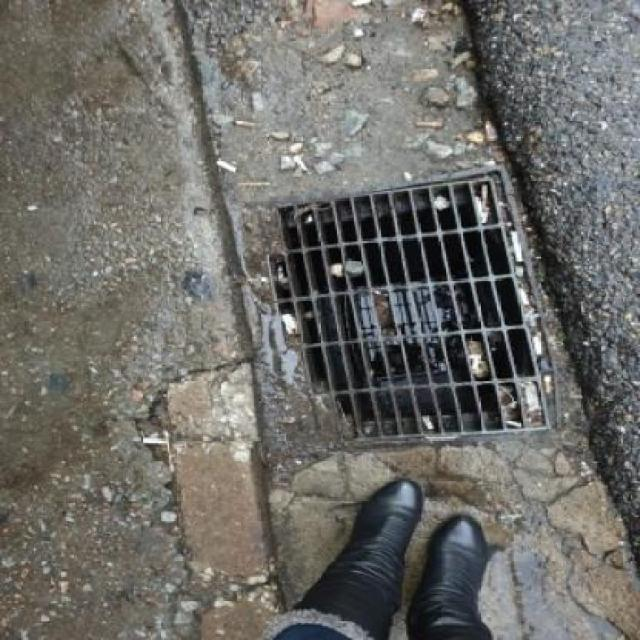Drain Hole: (224, 155, 595, 463)
